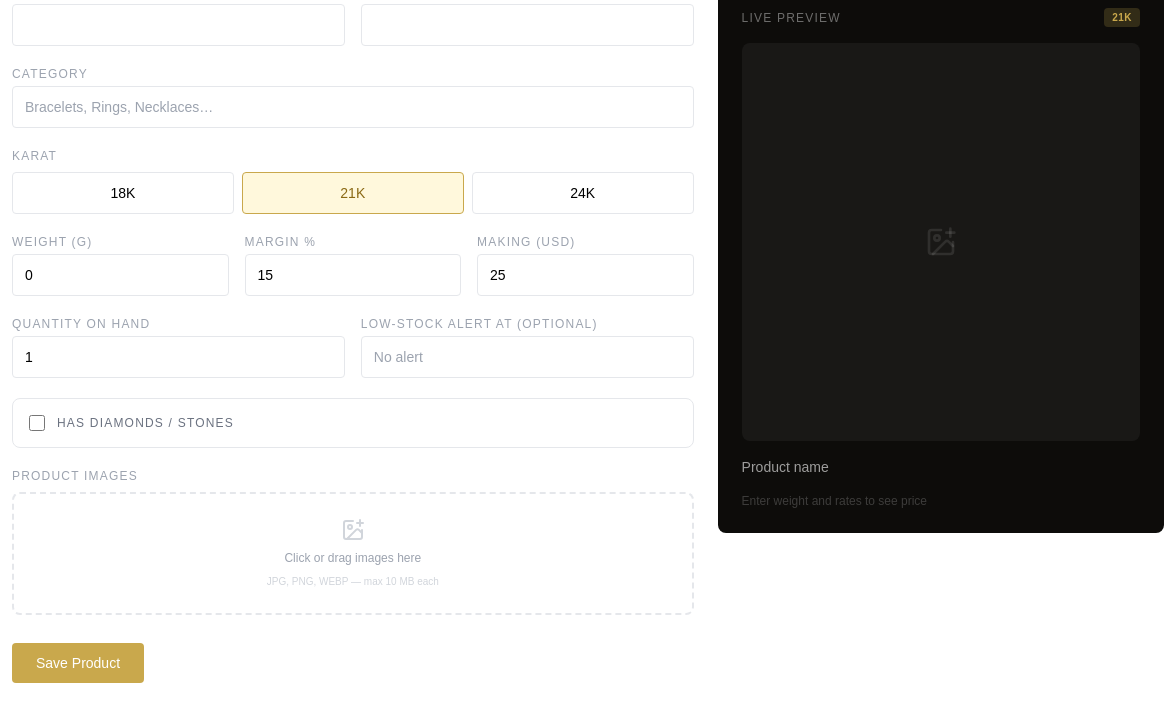
Test: ProductForm labels and i18n (NEX-64) › every field is reachable by its label
expect the field labelled "Name (English)" is shown: met, box x1=12 y1=4 x2=345 y2=46
expect the field labelled "Name (Arabic)" is shown: met, box x1=361 y1=4 x2=694 y2=46
Click the checkbox labelled "Has diamonds / stones": (37, 423) x1=29 y1=415 x2=45 y2=431
(page scrolled)
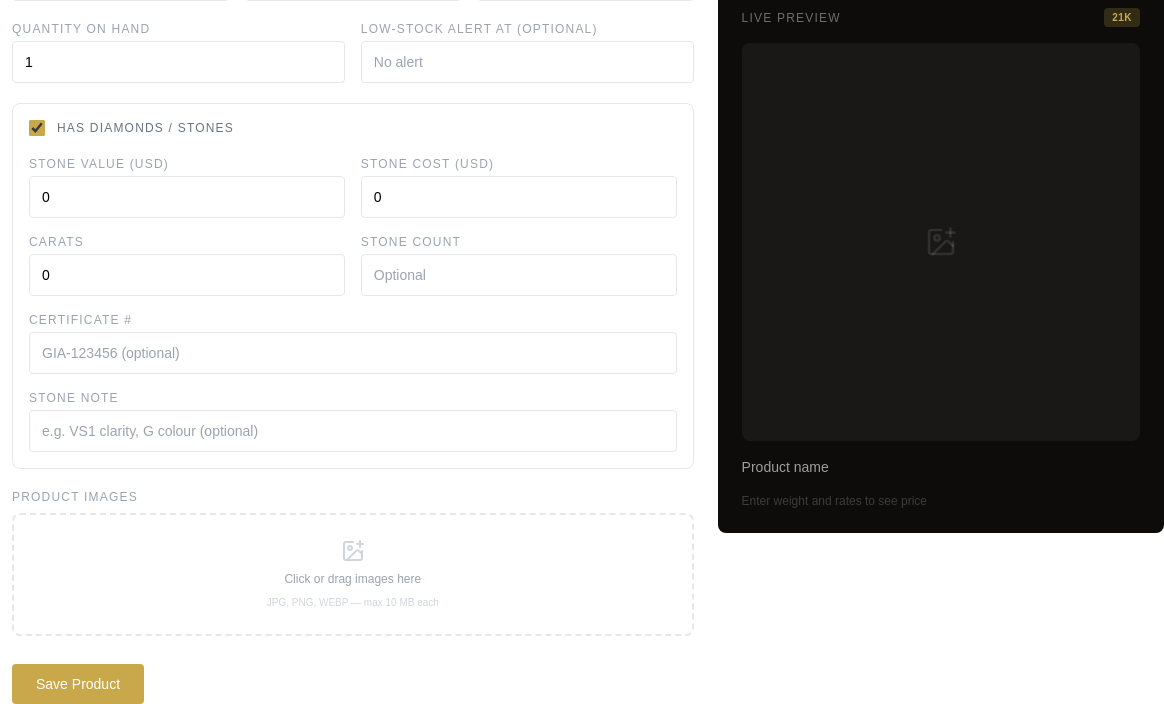
expect the number field labelled "Stone value (USD)" is shown: met, box x1=29 y1=176 x2=345 y2=218
expect the number field labelled "Stone cost (USD)" is shown: met, box x1=361 y1=176 x2=677 y2=218
expect the number field labelled "Carats" is shown: met, box x1=29 y1=254 x2=345 y2=296
